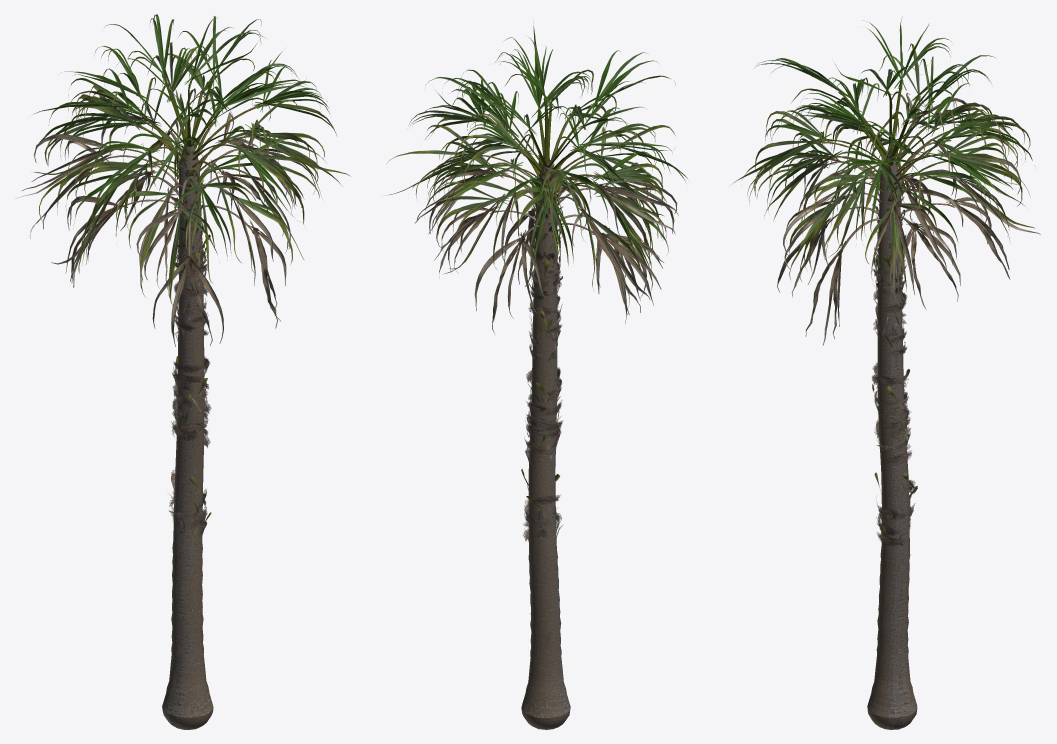
The model's file is fan_palm.glb.
3 views of the same model, side by side, from view 1: azimuth 30°, elevation 25°; view 2: azimuth 150°, elevation 25°; view 3: azimuth 270°, elevation 25° (orthographic). The views are drawn at different scales.
Visible parts, largest first — view 1: Washingtonia_Robusta_2_w; view 2: Washingtonia_Robusta_2_w; view 3: Washingtonia_Robusta_2_w.
Boxes of the visible parts, <box> form: Washingtonia_Robusta_2_w: <box>15,14,350,729</box>; Washingtonia_Robusta_2_w: <box>386,22,687,729</box>; Washingtonia_Robusta_2_w: <box>731,17,1040,729</box>.
Bounding box in the file's own units: 5.63 × 12.99 × 5.48.
Materials: 7 (7 with a texture image).
